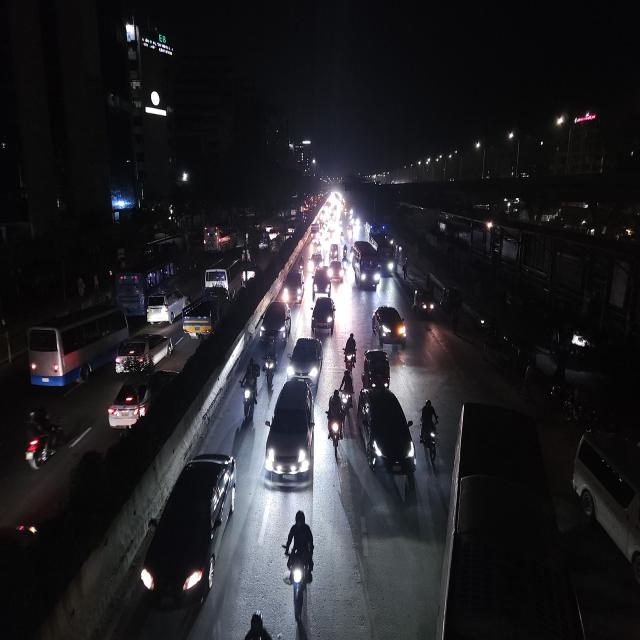bus: (442, 399, 579, 639), (24, 301, 129, 390), (114, 260, 176, 315), (205, 254, 244, 302), (351, 238, 381, 294), (377, 233, 395, 280)
car: (140, 449, 236, 620), (569, 423, 640, 588), (357, 382, 417, 494), (264, 375, 316, 494), (104, 366, 176, 435), (112, 329, 175, 374), (286, 332, 324, 384), (371, 301, 409, 350), (145, 286, 187, 323), (258, 299, 291, 346), (362, 347, 392, 393), (311, 294, 337, 338), (281, 265, 305, 306), (311, 268, 333, 299), (328, 258, 344, 285), (242, 260, 258, 285), (310, 250, 324, 270)
cng: (362, 347, 392, 392), (411, 282, 438, 322), (328, 242, 339, 261)
motorcycle: (280, 506, 318, 629), (20, 406, 64, 476), (419, 394, 441, 461), (240, 355, 260, 426), (326, 385, 346, 454), (550, 379, 579, 424), (262, 344, 278, 390), (342, 329, 358, 373), (342, 242, 349, 262)
pedestrian: (448, 311, 461, 339), (401, 261, 408, 284)
pickup_van: (182, 292, 228, 343)
truck: (204, 252, 246, 297)
